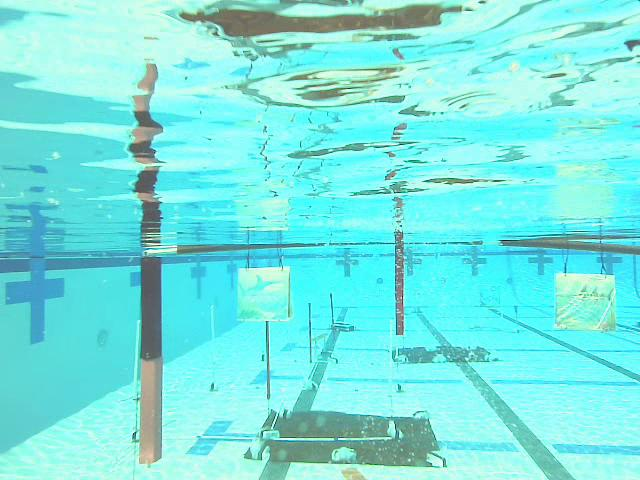black_poster: (329, 293, 336, 339), (308, 301, 312, 363)
divider: (395, 244, 405, 336)
left_gate_poster: (141, 258, 163, 466)
shark: (237, 268, 292, 322)
swordfish: (556, 273, 616, 332)
white_poster: (132, 320, 140, 443), (210, 306, 217, 392)
